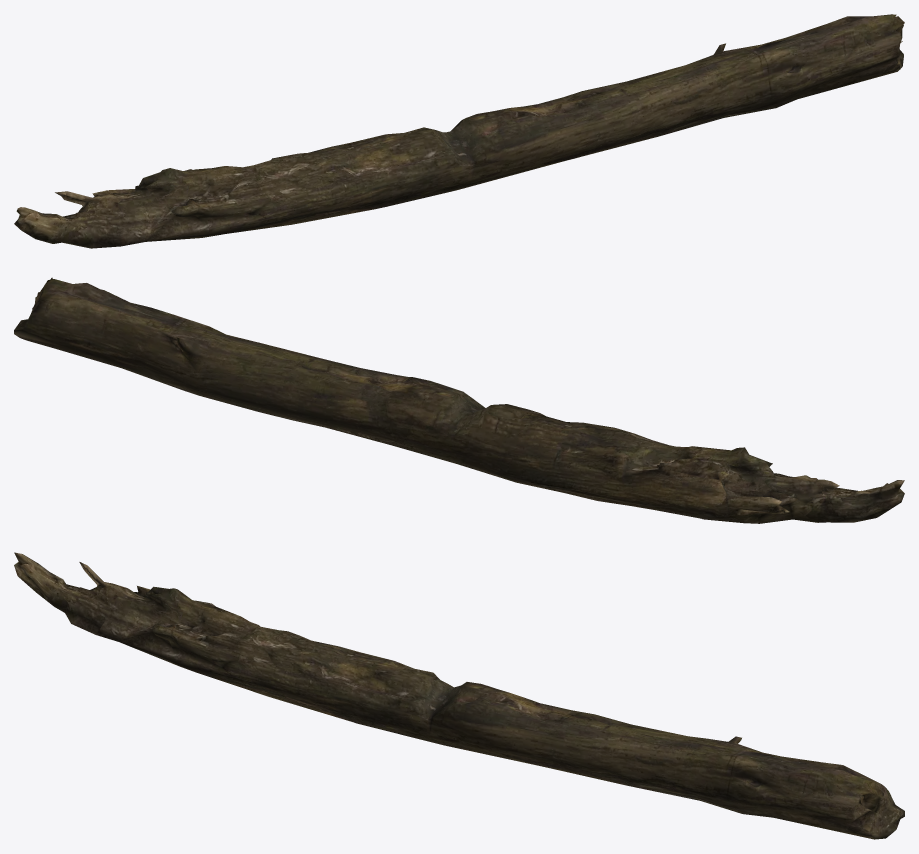
The model's file is dead_tree_trunk.glb.
3 renders of one model, top to bottom at view 1: azimuth 30°, elevation 25°; view 2: azimuth 150°, elevation 25°; view 3: azimuth 330°, elevation 25°, orthographic.
Visible parts, largest first — view 1: dead_tree_trunk; view 2: dead_tree_trunk; view 3: dead_tree_trunk.
Boxes of the visible parts, bbox=[...] form: dead_tree_trunk: bbox=[14, 14, 904, 248]; dead_tree_trunk: bbox=[14, 277, 904, 523]; dead_tree_trunk: bbox=[14, 552, 904, 839].
Size of the model in its own units: 3.04 by 0.2869 by 0.2698.
1 material, 1 textured.
